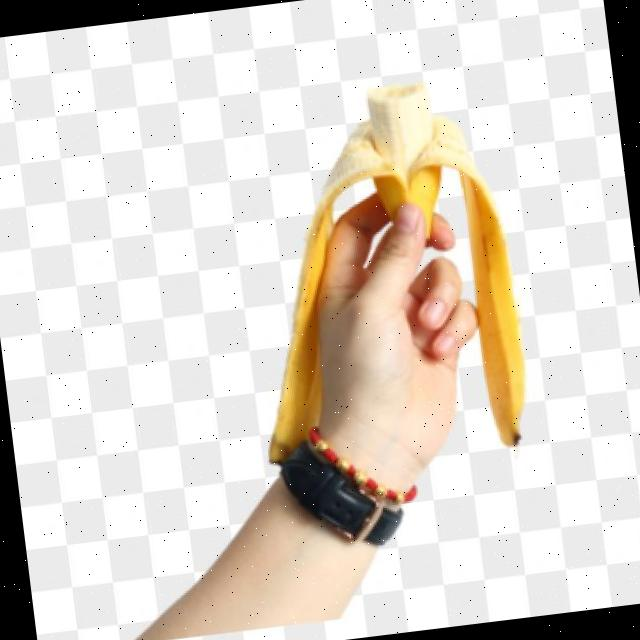banana-peel: (224, 71, 535, 478)
